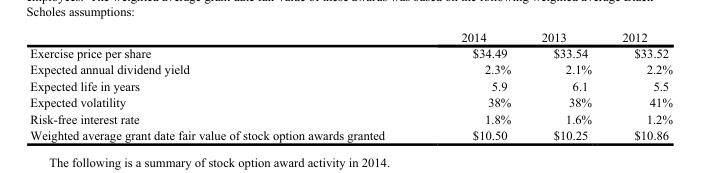table: (29, 29, 671, 141)
table column: (29, 29, 422, 141), (422, 29, 525, 141), (525, 29, 606, 141), (606, 29, 671, 141)
table column header: (29, 29, 671, 44)
table row: (29, 60, 671, 77), (29, 93, 671, 110), (29, 44, 671, 60), (29, 77, 671, 93), (29, 110, 671, 126), (29, 29, 671, 44), (29, 126, 671, 141)
